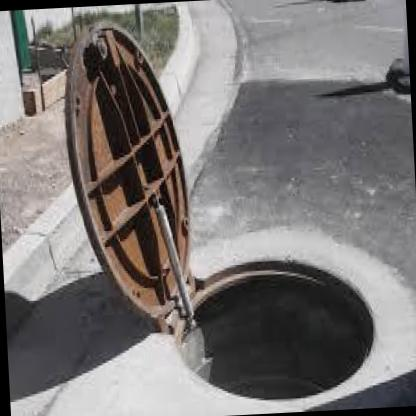manholes: (52, 4, 384, 416)
